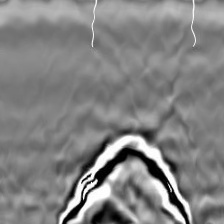Utility: (54, 130, 195, 224)
